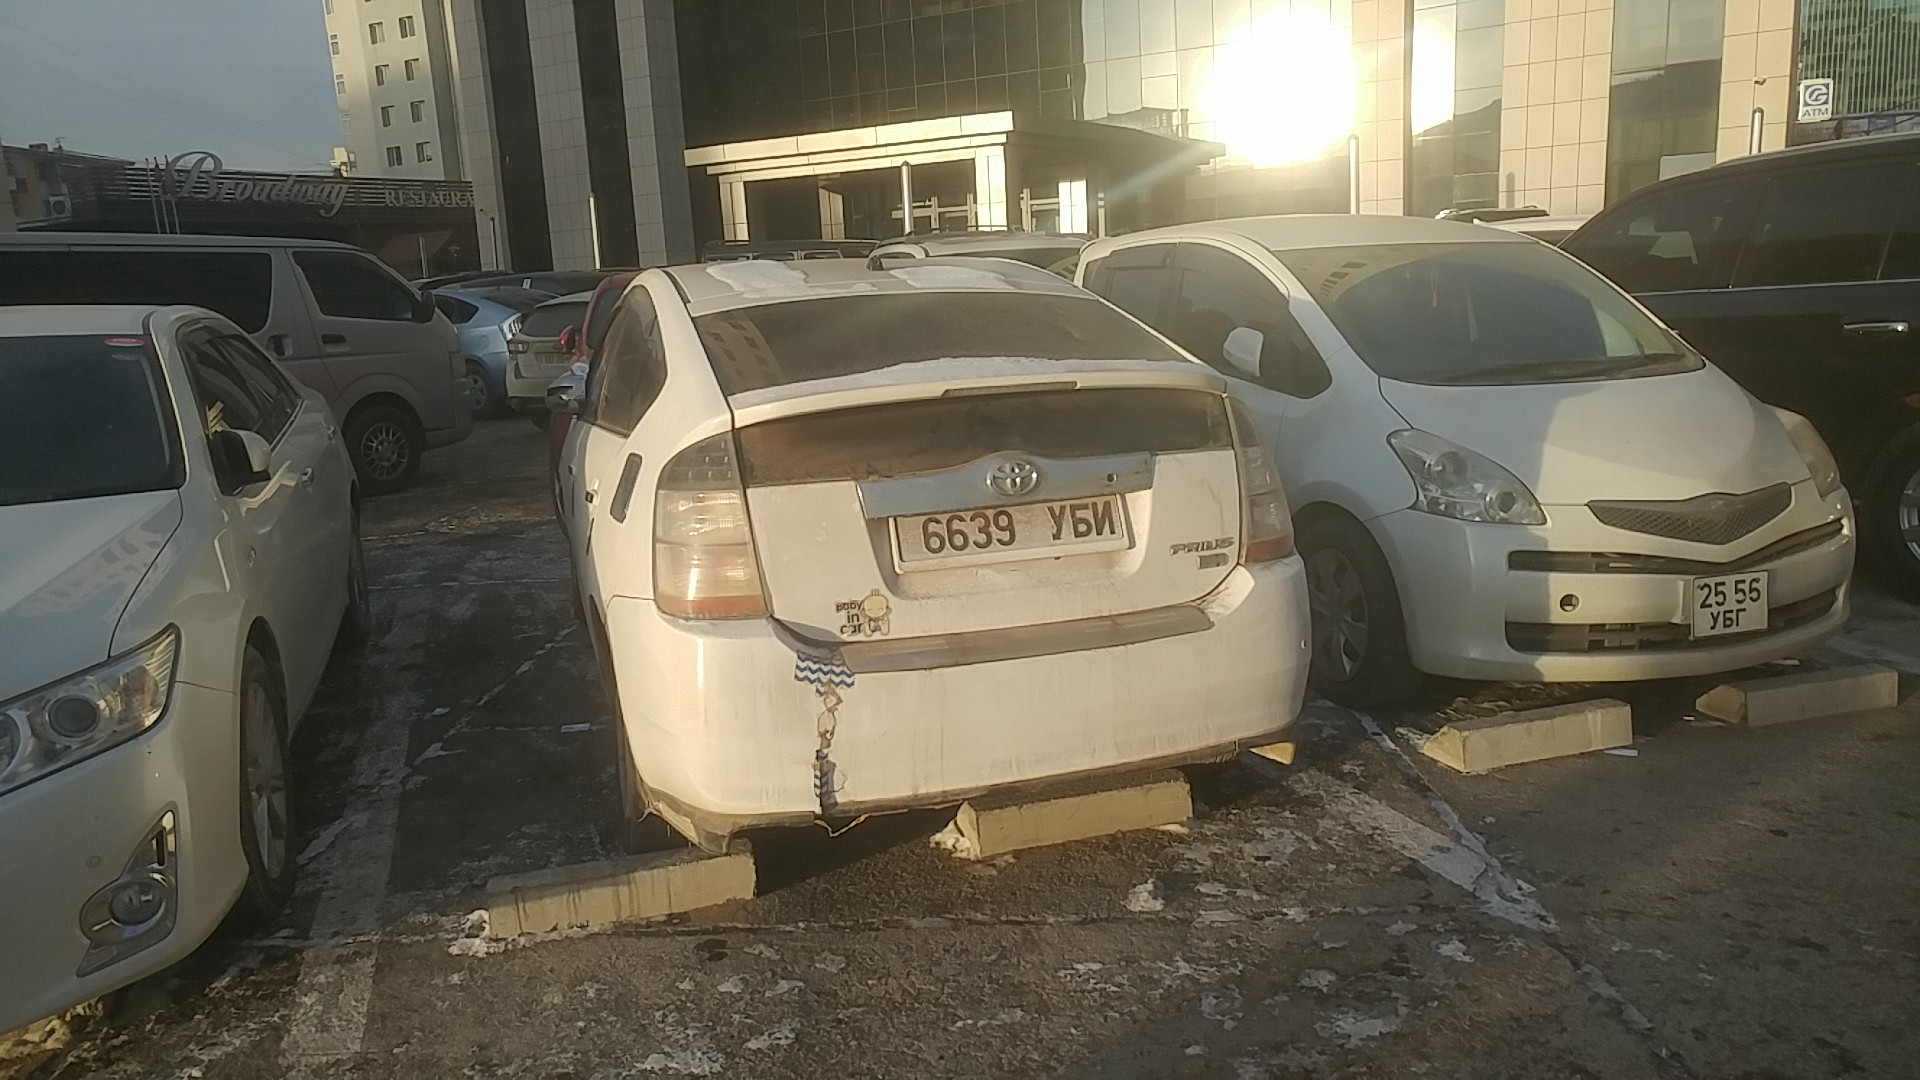2: (1699, 583, 1713, 608)
3: (969, 511, 994, 550)
5: (1713, 580, 1729, 607), (1733, 578, 1749, 604)
6: (945, 512, 970, 552), (921, 516, 946, 554), (1748, 577, 1763, 603)
9: (992, 510, 1018, 547)
b: (1068, 502, 1093, 538), (1722, 609, 1736, 629)
g: (1735, 607, 1747, 626)
i: (1091, 499, 1118, 537)
plate: (887, 485, 1133, 572), (1690, 570, 1774, 639)
u: (1046, 504, 1068, 541), (1709, 610, 1721, 630)
